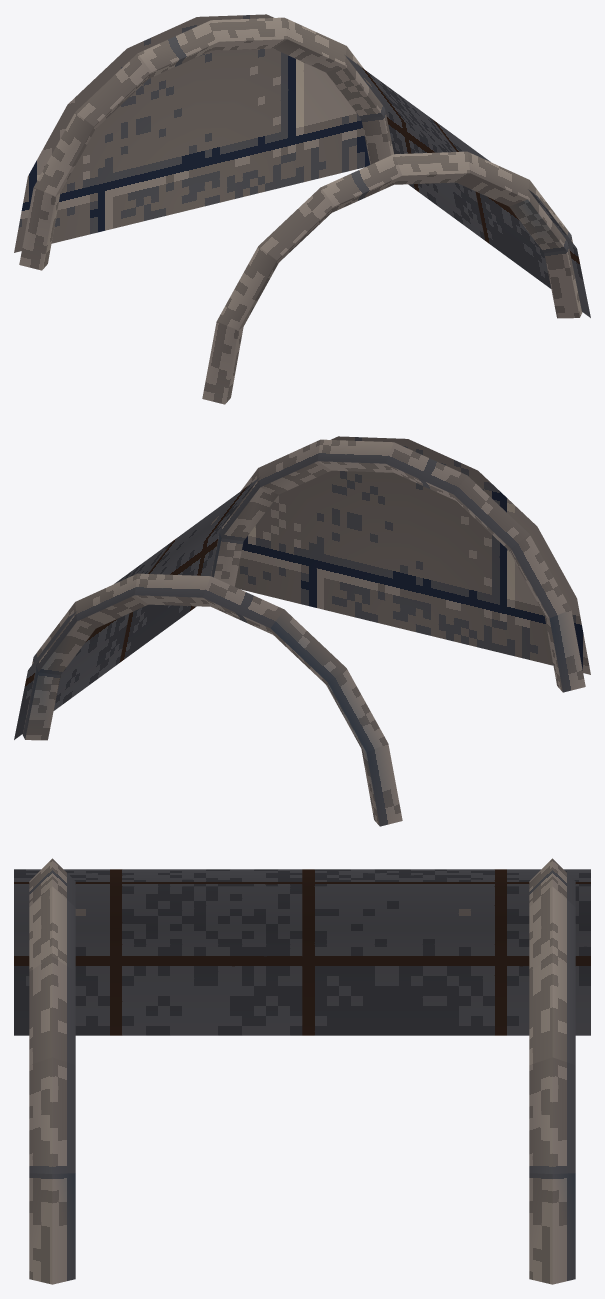
File: dgn.ceiling.glb
3 views of the same model, one above another, from view 1: azimuth 30°, elevation 25°; view 2: azimuth 150°, elevation 25°; view 3: azimuth 270°, elevation 25° (orthographic). The views are drawn at different scales.
Parts seen in each view (by area): view 1: kit_shell_tympana, kit_ribs, kit_shell_vault; view 2: kit_shell_tympana, kit_ribs, kit_shell_vault; view 3: kit_shell_vault, kit_ribs.
Part boxes in pixels (x1,y1,x2,y2): kit_shell_tympana: [14, 14, 370, 252]; kit_ribs: [19, 17, 582, 404]; kit_shell_vault: [345, 55, 590, 317]; kit_shell_tympana: [234, 436, 590, 674]; kit_ribs: [22, 439, 585, 826]; kit_shell_vault: [14, 477, 259, 739]; kit_shell_vault: [14, 869, 590, 1035]; kit_ribs: [29, 858, 575, 1284].
Size of the model in its own units: 3.15 by 1.6 by 3.
Materials: 3 (3 with a texture image).
